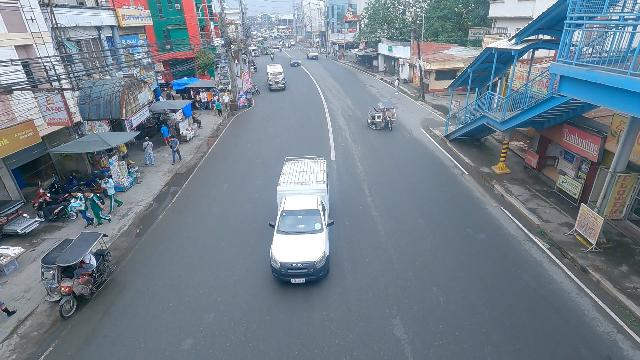car: (289, 55, 302, 66)
jeepney: (264, 62, 288, 92), (259, 44, 274, 56)
motorcycle: (270, 52, 275, 62)
truck: (305, 47, 320, 61)
van: (264, 153, 336, 288)
